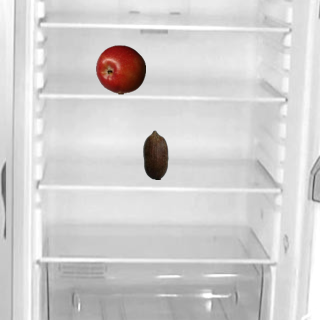Apple Braeburn: (95, 44, 145, 94)
Nut Pecan: (130, 129, 180, 179)
